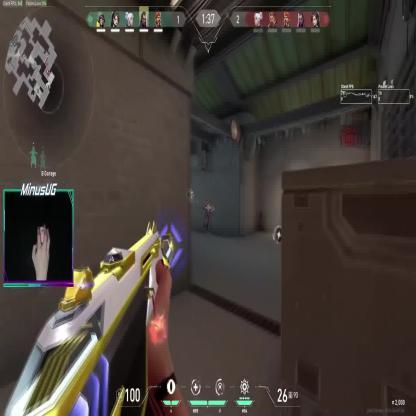enemy: (203, 200, 215, 235)
enemy_head: (206, 200, 210, 206)
